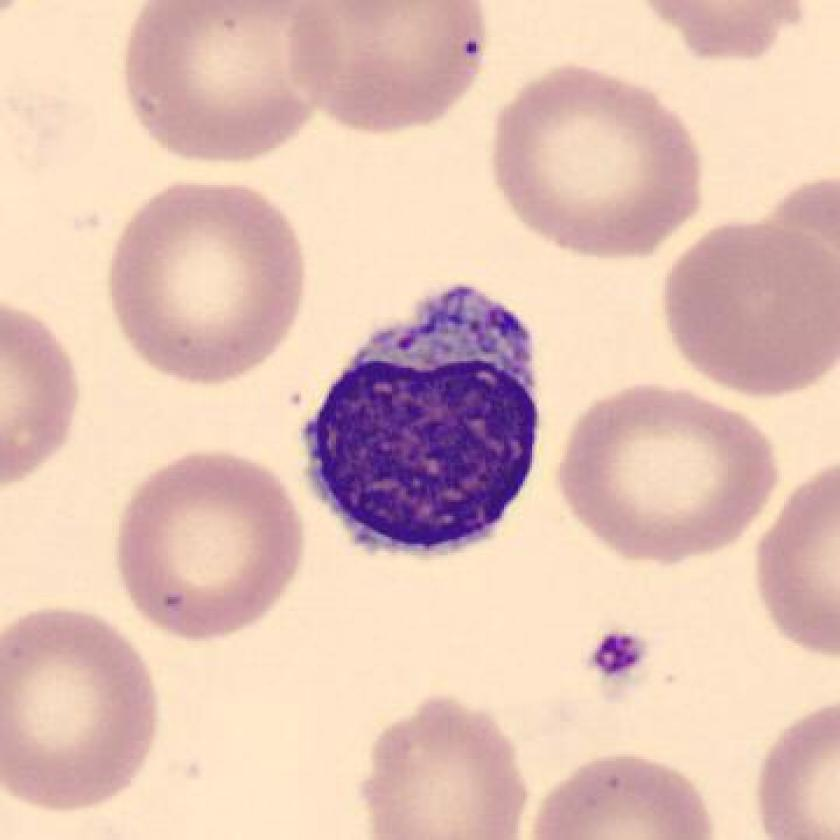lymphocyte: (276, 267, 561, 580)
platelets: (585, 630, 655, 696)
